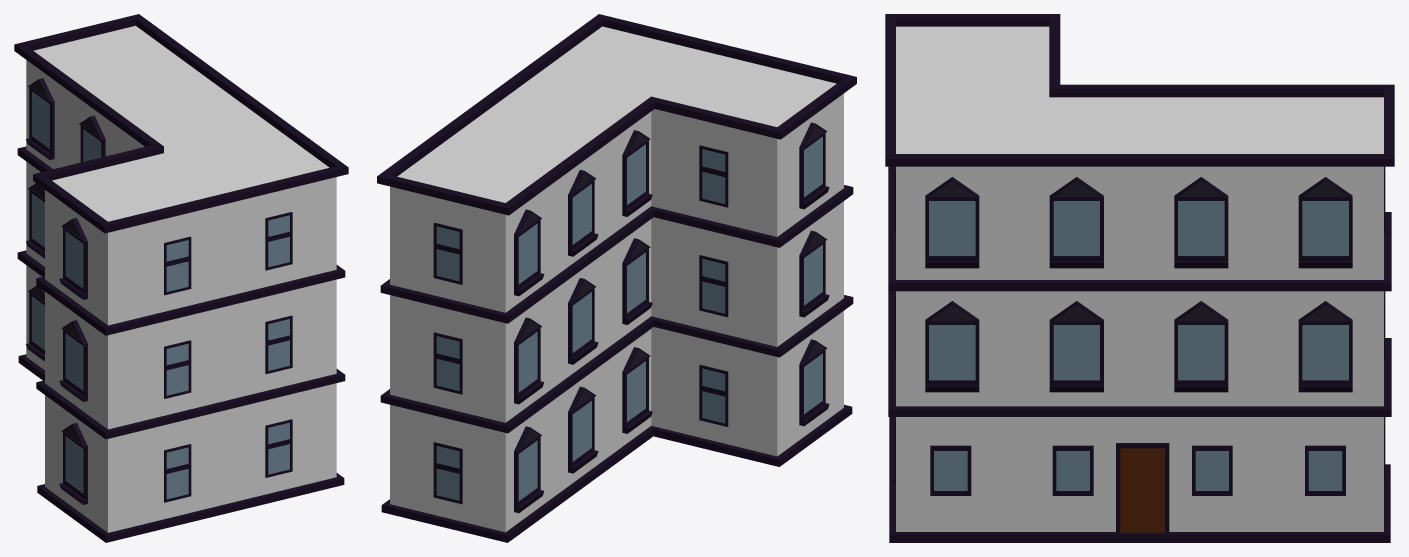
Rendered from L white.fbx.
The picture shows the model from 3 angles, left to right: view 1: azimuth 30°, elevation 25°; view 2: azimuth 150°, elevation 25°; view 3: azimuth 270°, elevation 25°; orthographic projection. The views are drawn at different scales.
Parts seen in each view (by area): view 1: L purple white; view 2: L purple white; view 3: L purple white.
Boxes of the visible parts, x1,y1,x2,y2 form: L purple white: [14, 14, 348, 542]; L purple white: [377, 14, 856, 542]; L purple white: [885, 14, 1394, 542].
Size of the model in its own units: 7.57 by 9.43 by 11.27.
